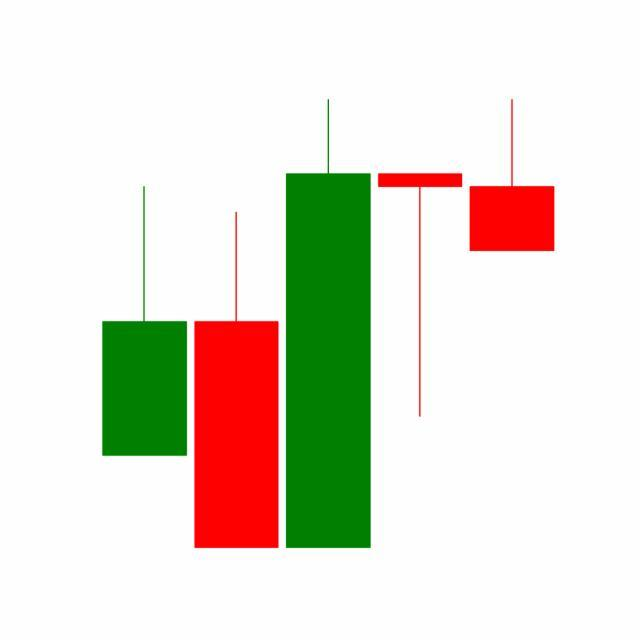Dragonfly Doji: (374, 171, 468, 421)
